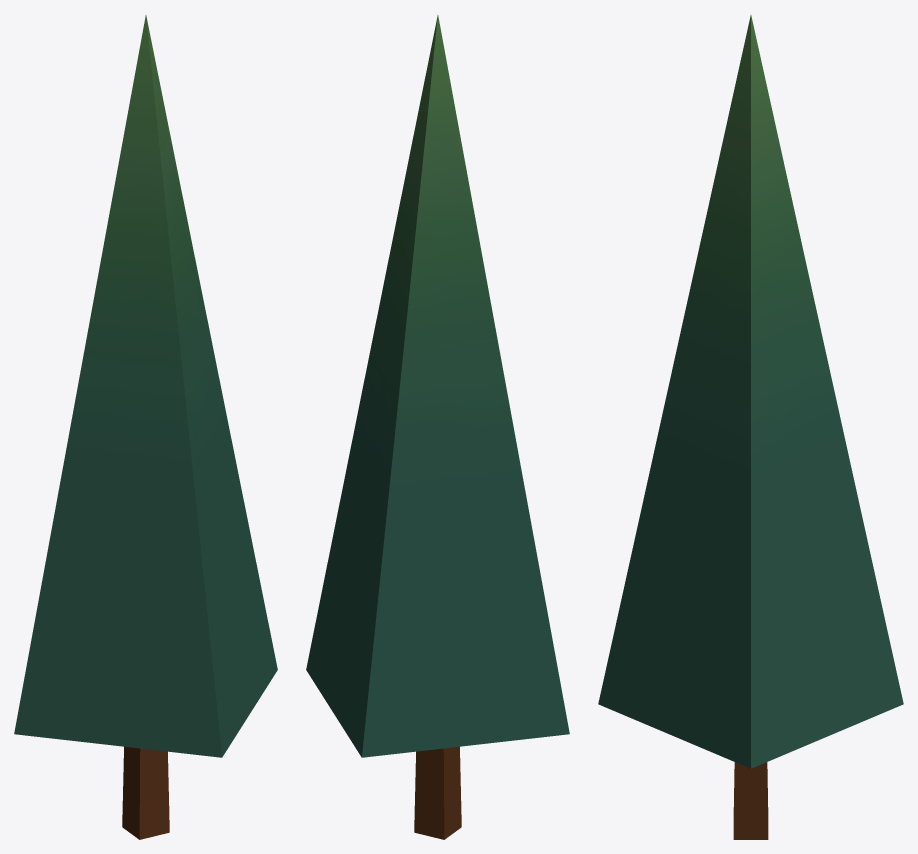
Rendered from Tree01.FBX.
The picture shows the model from 3 angles, left to right: view 1: azimuth 30°, elevation 25°; view 2: azimuth 150°, elevation 25°; view 3: azimuth 270°, elevation 25°; orthographic projection.
Parts seen in each view (by area): view 1: pasted__Tree08; view 2: pasted__Tree08; view 3: pasted__Tree08.
Part boxes in pixels (x1,y1,x2,y2): pasted__Tree08: (14, 15, 277, 839); pasted__Tree08: (306, 15, 569, 839); pasted__Tree08: (598, 15, 903, 839).
Bounding box in the file's own units: 68.26 × 202 × 68.26.
